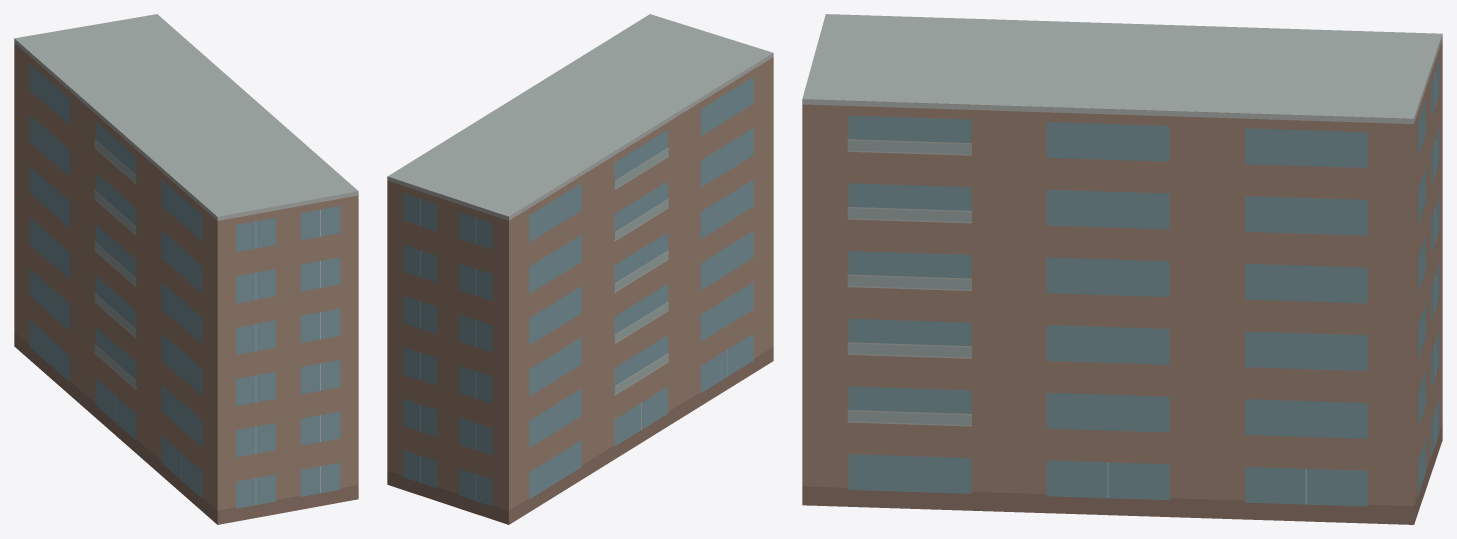
The model's file is survey-upis-33011643.glb.
The picture shows the model from 3 angles, left to right: view 1: azimuth 30°, elevation 25°; view 2: azimuth 150°, elevation 25°; view 3: azimuth 270°, elevation 25°; orthographic projection. The views are drawn at different scales.
Parts seen in each view (by area): view 1: survey-upis-33011643.tmp; view 2: survey-upis-33011643.tmp; view 3: survey-upis-33011643.tmp.
Boxes of the visible parts, box(x1,y1,x2,y2) form: survey-upis-33011643.tmp: box(14, 14, 358, 524); survey-upis-33011643.tmp: box(387, 14, 773, 524); survey-upis-33011643.tmp: box(802, 14, 1442, 524).
Bounding box in the file's own units: 10.13 × 18.3 × 26.16.
